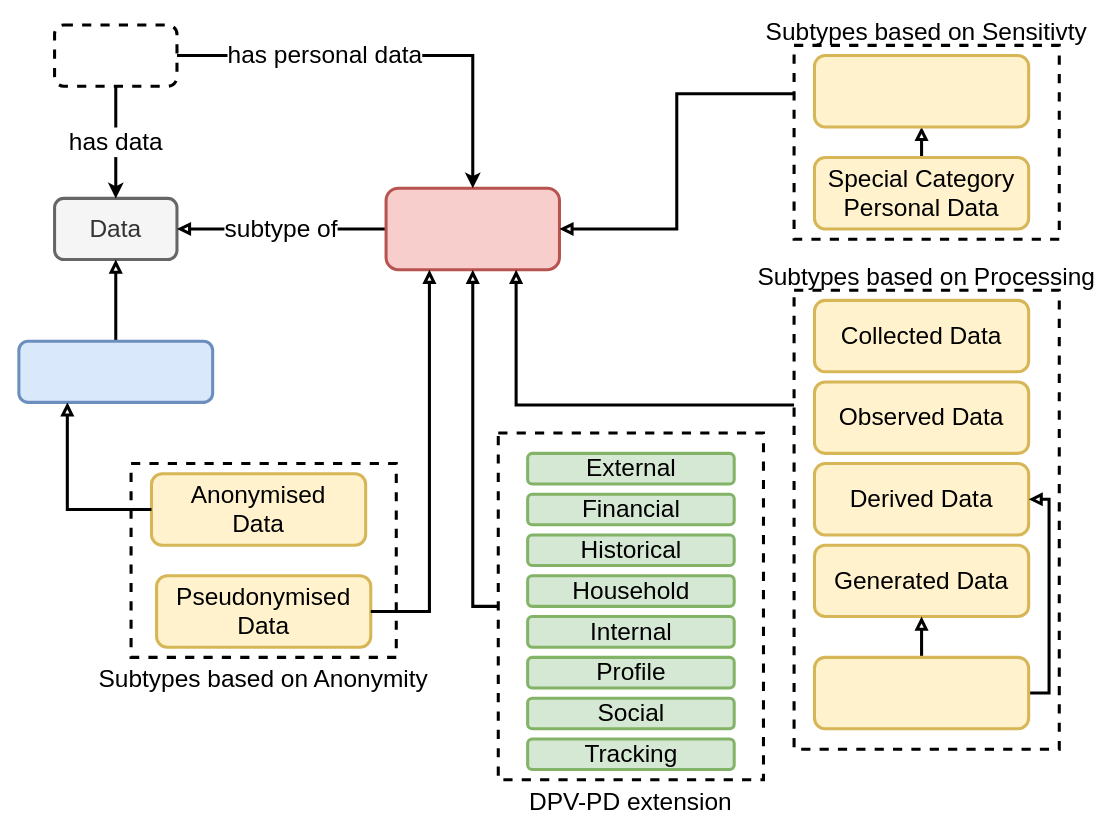
This 1113x832 diagram has some shape labels left out. The centre of each missing label's shape, as x and y in pixels:
"Inferred Data" goes at pixel 921 692.
"Non-Personal Data" goes at pixel 115 371.
"Personal Data" goes at pixel 472 228.
"Sensitive Personal Data" goes at pixel 921 91.
"Thing" goes at pixel 115 55.
